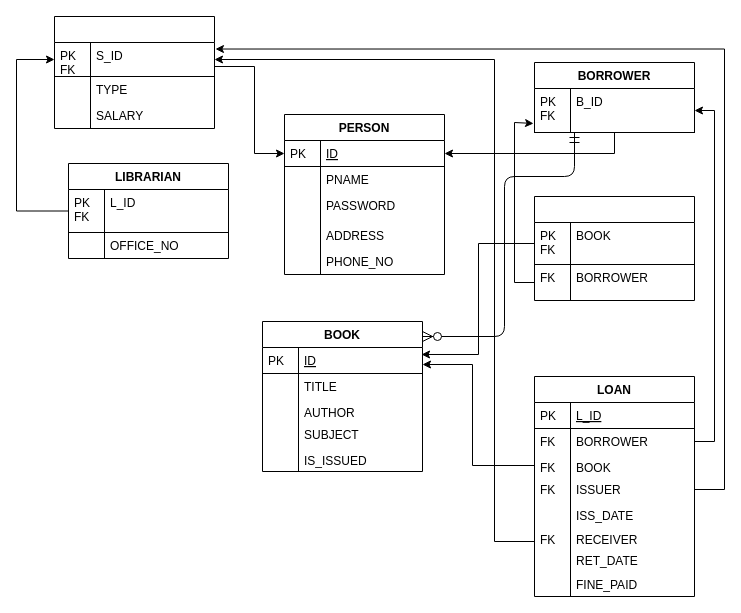
This 741x613 diagram has some shape labels left out. Here are the shapes that lost their labels. From the top down, the box of each, then its label:
(54, 16, 214, 128): STAFF
(534, 196, 694, 300): BORROWED_BOOK
